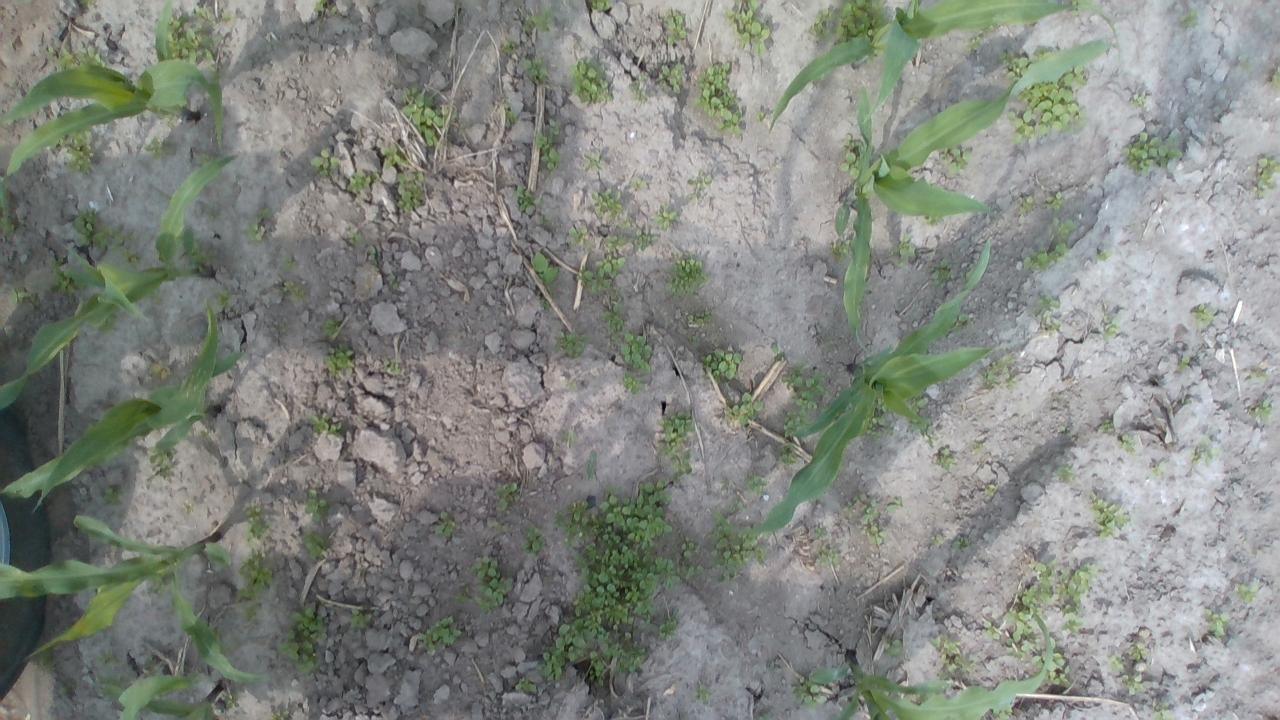Maize: (832, 38, 1110, 354), (719, 237, 1012, 535), (0, 152, 242, 412), (0, 298, 247, 518), (766, 0, 1118, 140), (0, 514, 281, 686), (0, 0, 226, 181), (808, 611, 1054, 720), (97, 671, 226, 720)
Weeds: (536, 476, 680, 686), (1009, 84, 1088, 144), (704, 515, 767, 584), (693, 62, 744, 137), (402, 86, 458, 148), (812, 0, 888, 43), (280, 607, 328, 675), (844, 494, 903, 546), (166, 12, 222, 64), (1122, 132, 1183, 177), (724, 0, 771, 57), (238, 548, 274, 622), (1005, 588, 1039, 660), (781, 362, 825, 416), (566, 57, 614, 105), (1057, 564, 1102, 614), (931, 634, 978, 681), (473, 556, 511, 613), (1088, 492, 1132, 540), (575, 253, 627, 293), (1032, 637, 1071, 688), (664, 256, 710, 298), (416, 614, 462, 656), (778, 410, 812, 466), (658, 410, 696, 458), (46, 44, 106, 70), (700, 347, 743, 383), (722, 392, 764, 428), (618, 332, 654, 373), (72, 207, 108, 248), (910, 397, 940, 446), (1022, 243, 1069, 274), (978, 355, 1016, 393), (48, 259, 86, 295), (396, 170, 425, 213), (66, 130, 94, 174), (791, 676, 827, 710), (108, 228, 140, 264), (534, 131, 562, 171), (1029, 561, 1054, 604), (532, 250, 560, 288), (682, 535, 705, 581), (1254, 158, 1280, 198), (244, 505, 272, 542), (248, 207, 276, 244), (868, 399, 892, 442), (324, 344, 356, 376), (554, 330, 590, 358), (591, 188, 624, 218), (838, 133, 860, 178), (303, 487, 328, 524), (149, 446, 177, 479), (310, 148, 340, 178), (664, 11, 688, 47), (310, 410, 342, 437), (520, 10, 556, 34), (1246, 394, 1274, 424), (494, 482, 520, 513), (1204, 608, 1230, 639), (891, 234, 916, 266), (1190, 439, 1222, 464), (658, 61, 682, 94), (347, 170, 380, 194), (944, 148, 974, 174), (650, 204, 679, 230), (928, 258, 952, 289), (302, 532, 328, 560), (380, 142, 408, 168), (1000, 54, 1028, 79), (522, 525, 544, 556), (516, 186, 540, 214), (628, 70, 648, 103), (1050, 216, 1076, 241), (632, 227, 659, 251), (1060, 612, 1087, 636), (196, 6, 233, 23), (523, 58, 549, 82), (348, 608, 374, 632), (1122, 672, 1146, 698), (689, 175, 711, 203), (670, 458, 694, 483), (8, 289, 38, 309), (602, 305, 624, 332), (434, 511, 456, 538), (282, 280, 308, 302), (1190, 304, 1216, 326), (143, 138, 170, 159), (568, 225, 590, 250), (1064, 66, 1090, 87), (828, 240, 852, 262), (623, 371, 644, 396), (1102, 316, 1122, 342), (936, 447, 958, 470), (1236, 582, 1260, 603), (817, 546, 839, 568), (582, 152, 606, 172), (1034, 294, 1060, 312), (1056, 465, 1078, 486), (746, 475, 768, 496), (882, 637, 902, 660), (514, 676, 538, 695), (97, 652, 125, 668), (220, 693, 242, 713), (691, 684, 714, 703), (1154, 700, 1175, 720), (1179, 10, 1202, 28), (1041, 314, 1061, 334), (454, 579, 470, 604), (1043, 192, 1064, 211), (983, 620, 1001, 642), (315, 0, 339, 16), (1128, 90, 1148, 109), (500, 103, 514, 130), (725, 497, 746, 515), (1017, 195, 1034, 217), (322, 318, 341, 337), (686, 310, 710, 325), (1118, 434, 1136, 454), (1130, 642, 1148, 662), (604, 235, 625, 251), (770, 341, 786, 361), (280, 255, 298, 272), (102, 488, 120, 505), (215, 290, 231, 308), (588, 0, 614, 11), (951, 536, 971, 550), (196, 249, 217, 262), (1251, 368, 1267, 385), (1071, 0, 1089, 15), (586, 450, 596, 477), (992, 708, 1014, 720), (1148, 462, 1166, 476), (269, 708, 290, 720), (968, 37, 984, 52), (1110, 656, 1126, 671), (1177, 354, 1189, 373), (1096, 248, 1112, 262), (629, 178, 649, 189), (926, 215, 946, 226), (1271, 64, 1280, 88), (501, 42, 519, 54), (346, 229, 361, 243), (958, 314, 971, 330), (384, 360, 401, 372), (1060, 425, 1074, 439), (812, 526, 828, 538), (366, 245, 378, 260), (493, 522, 508, 534), (1030, 52, 1052, 60), (388, 273, 398, 290), (1100, 420, 1114, 432), (984, 484, 996, 498), (972, 442, 986, 453), (758, 112, 771, 122), (931, 536, 944, 546), (721, 479, 731, 492), (539, 299, 550, 310), (201, 154, 212, 164), (759, 713, 774, 720), (550, 120, 558, 132), (80, 0, 96, 6), (768, 660, 776, 672), (689, 336, 698, 342)
